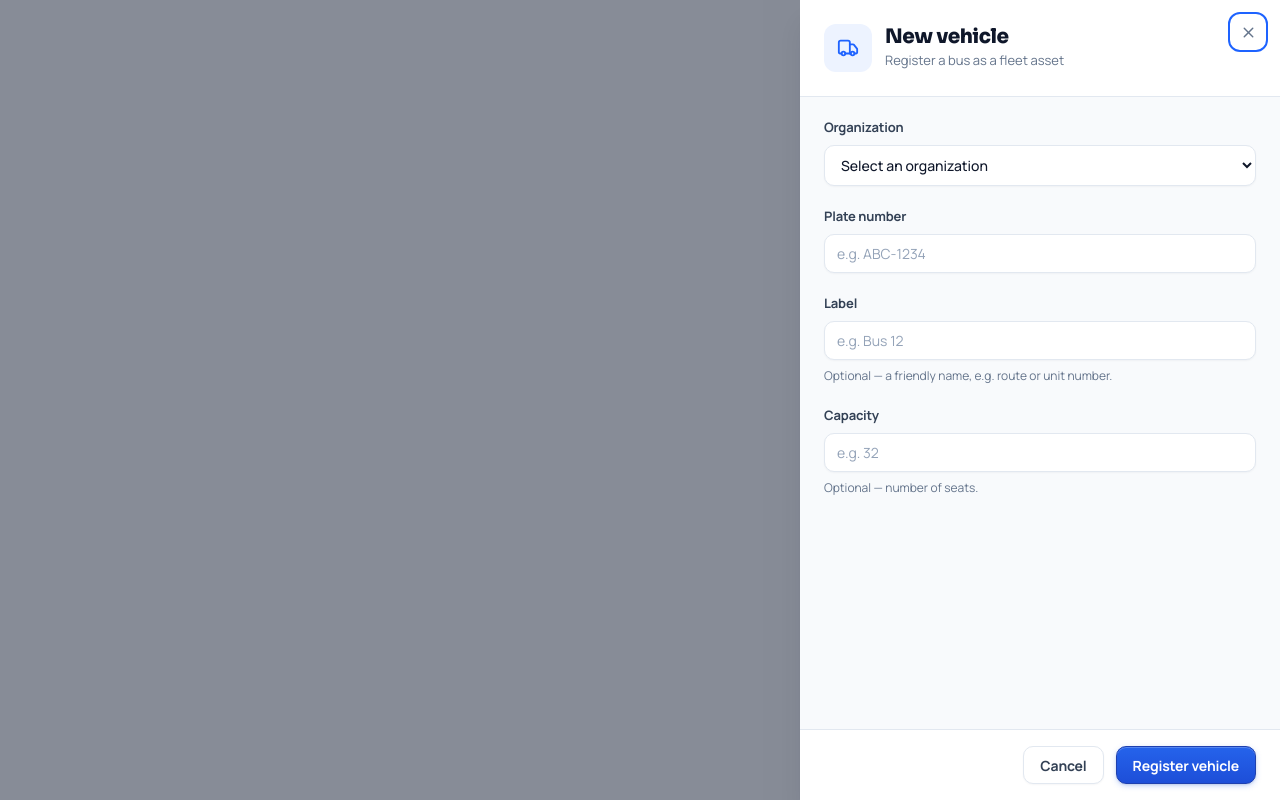
Test case: CreateVehicleForm › rejects a non-numeric capacity
Step 1. Select "Green Valley School" in the dropdown labelled "Organization" → (1040, 166), box 824,145 -> 1256,186
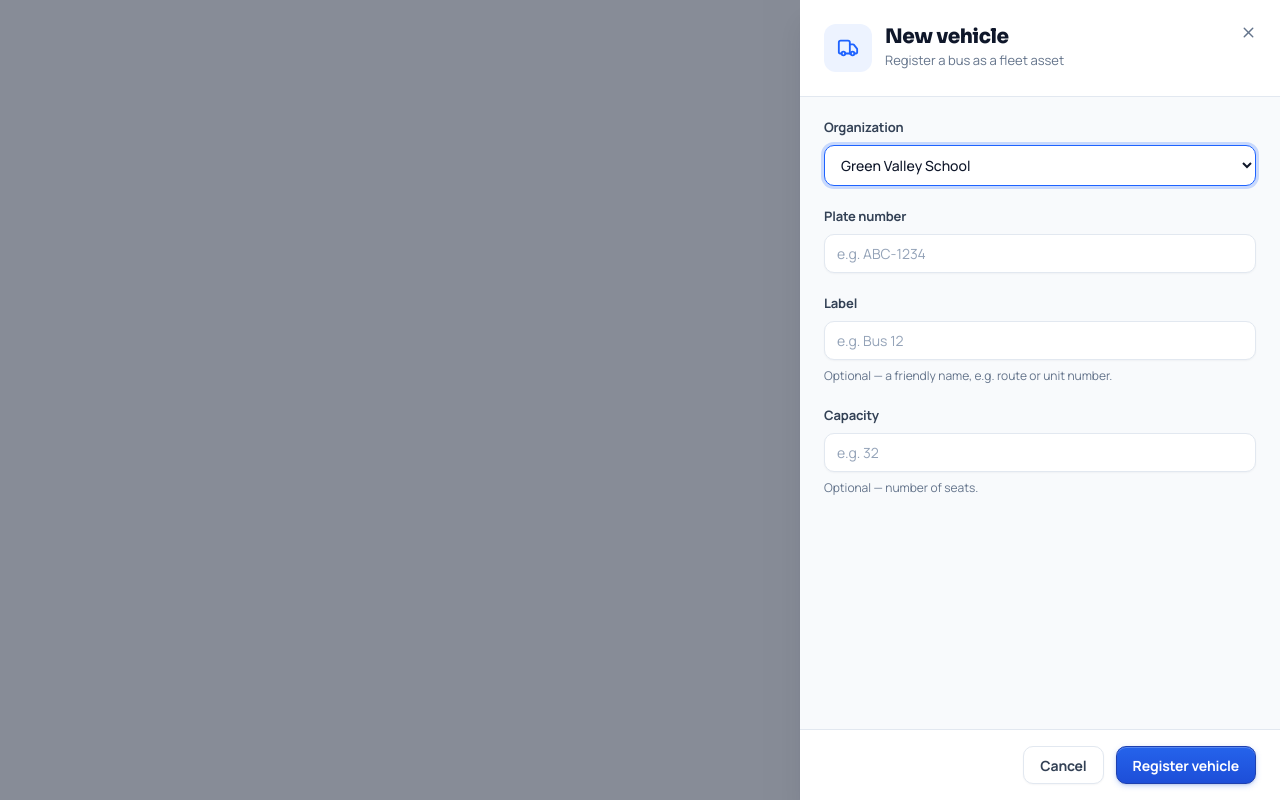
Step 2. Type "ABC-1234" into the field with placeholder "e.g. ABC-1234" → (1040, 254), box 824,234 -> 1256,273
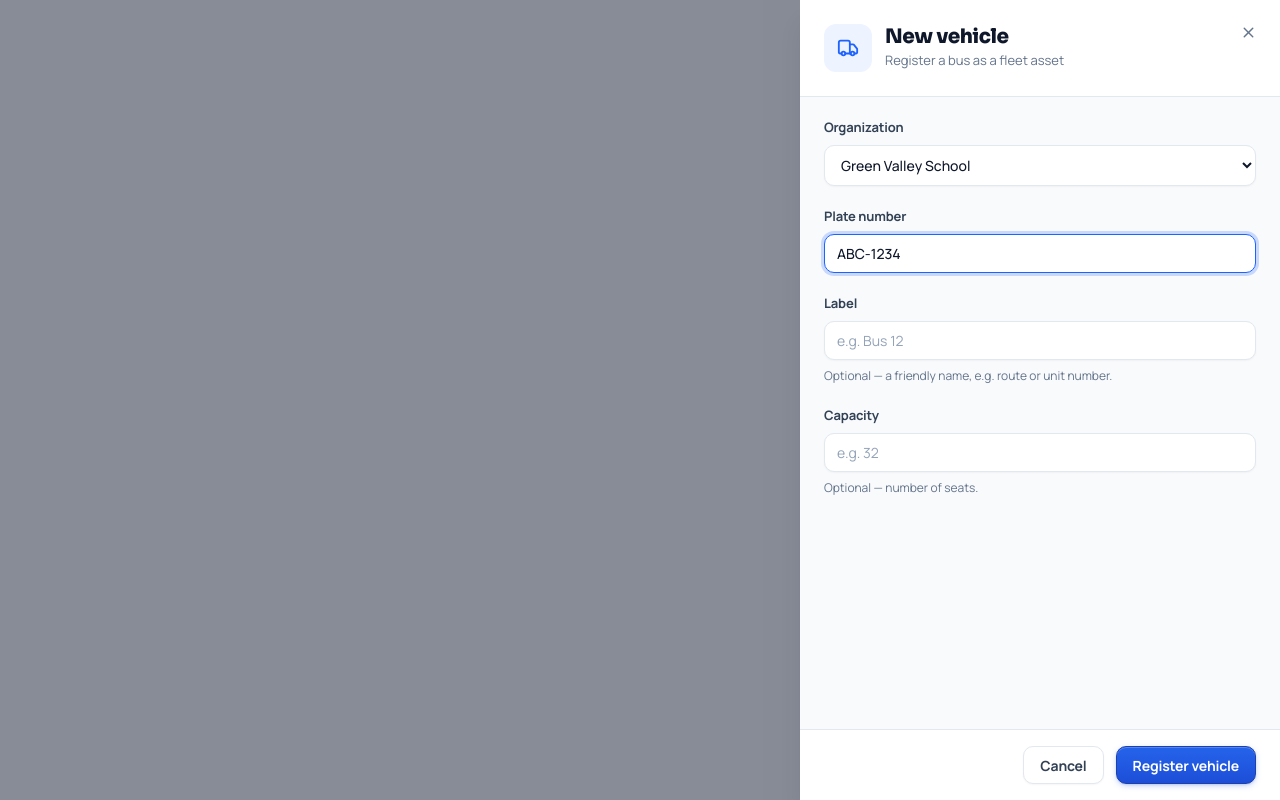
Step 3. Type "not-a-number" into the field with placeholder "e.g. 32" → (1040, 452), box 824,433 -> 1256,472
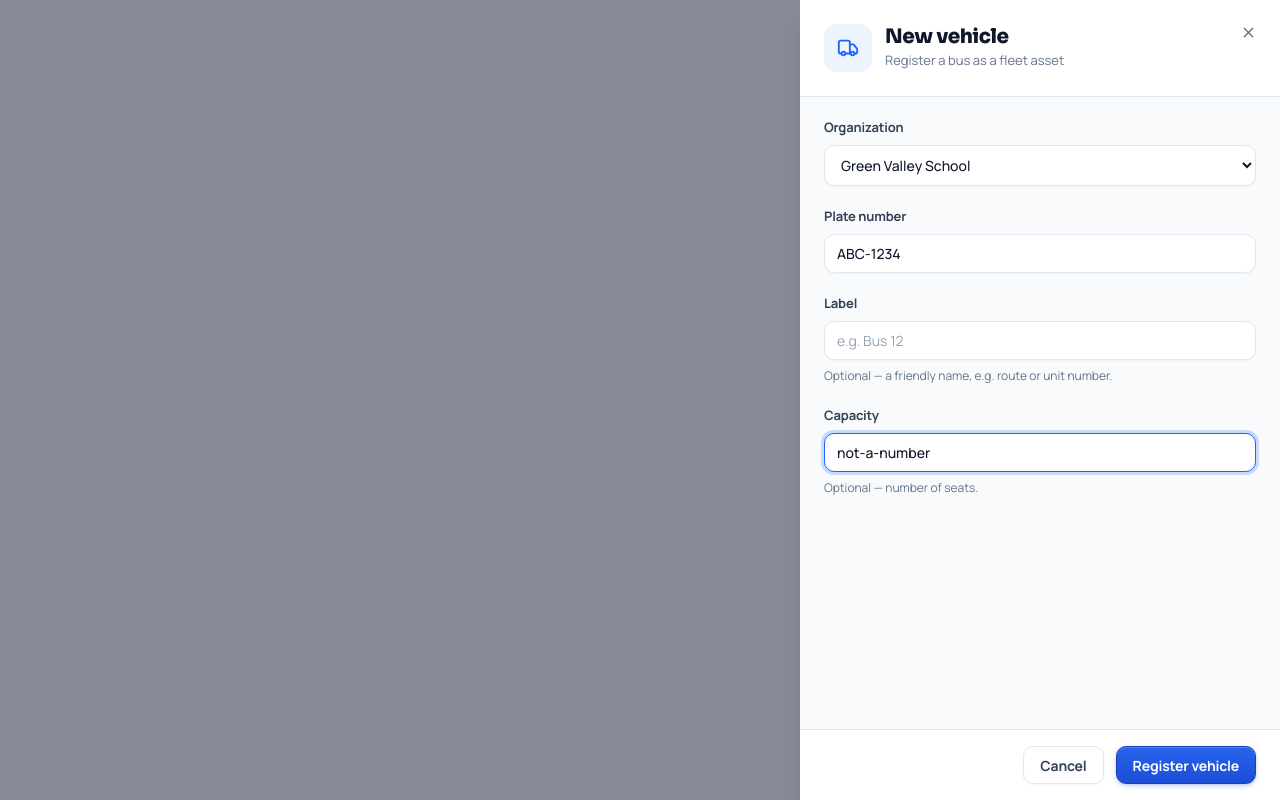
Step 4. Click the button "Register vehicle" → (1186, 765), box 1116,746 -> 1256,784
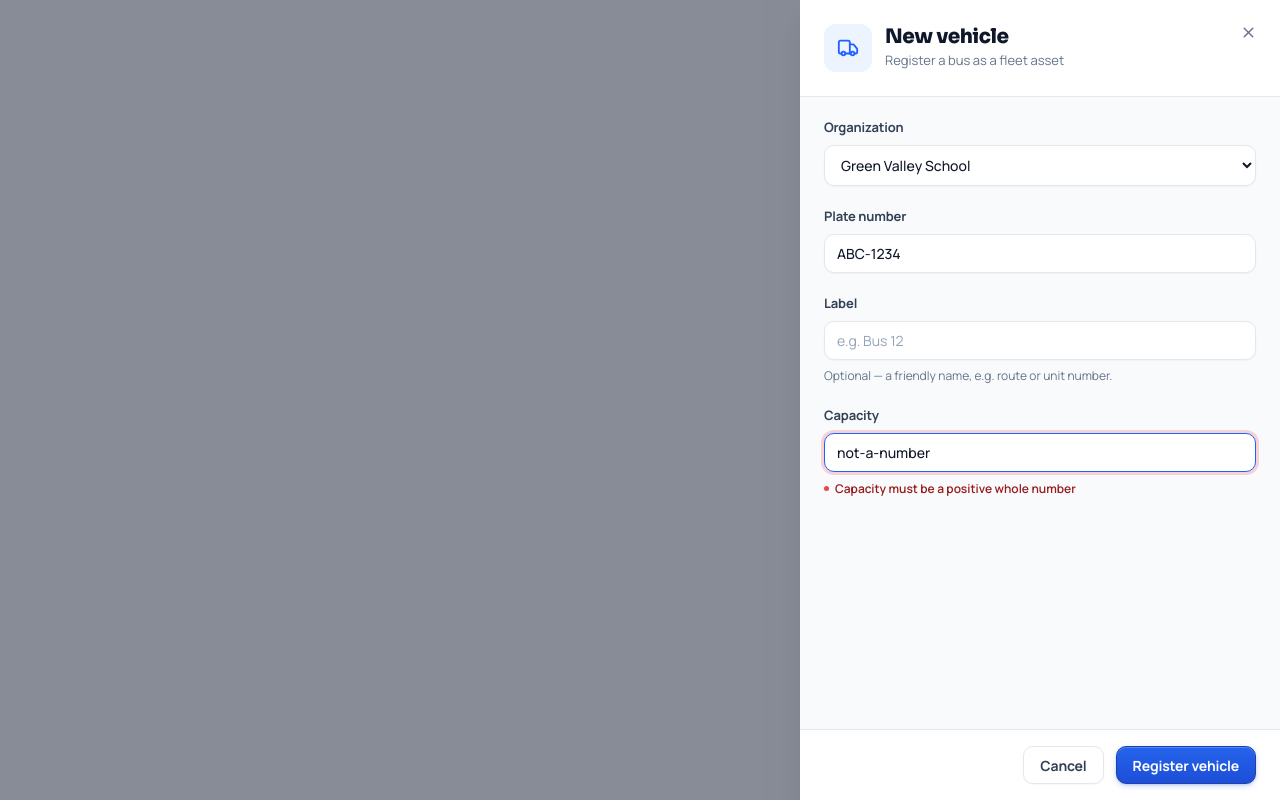
Now the text "Capacity must be a positive whole number" is shown, box 835,480 -> 1076,497
